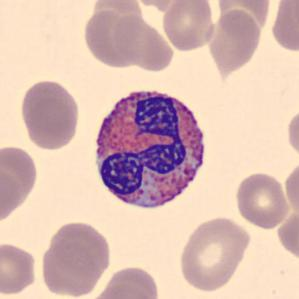Eosinophil: (88, 79, 214, 218)
RBC: (176, 214, 252, 293), (18, 77, 82, 152), (81, 2, 146, 70), (43, 219, 113, 281), (208, 5, 264, 74), (115, 14, 176, 75), (233, 169, 291, 230), (0, 142, 41, 219), (160, 0, 217, 52), (0, 240, 39, 298), (93, 267, 163, 299), (214, 0, 272, 37), (269, 0, 298, 54), (0, 160, 22, 225), (86, 283, 158, 299), (283, 158, 298, 220), (285, 106, 298, 162), (128, 0, 184, 10)
